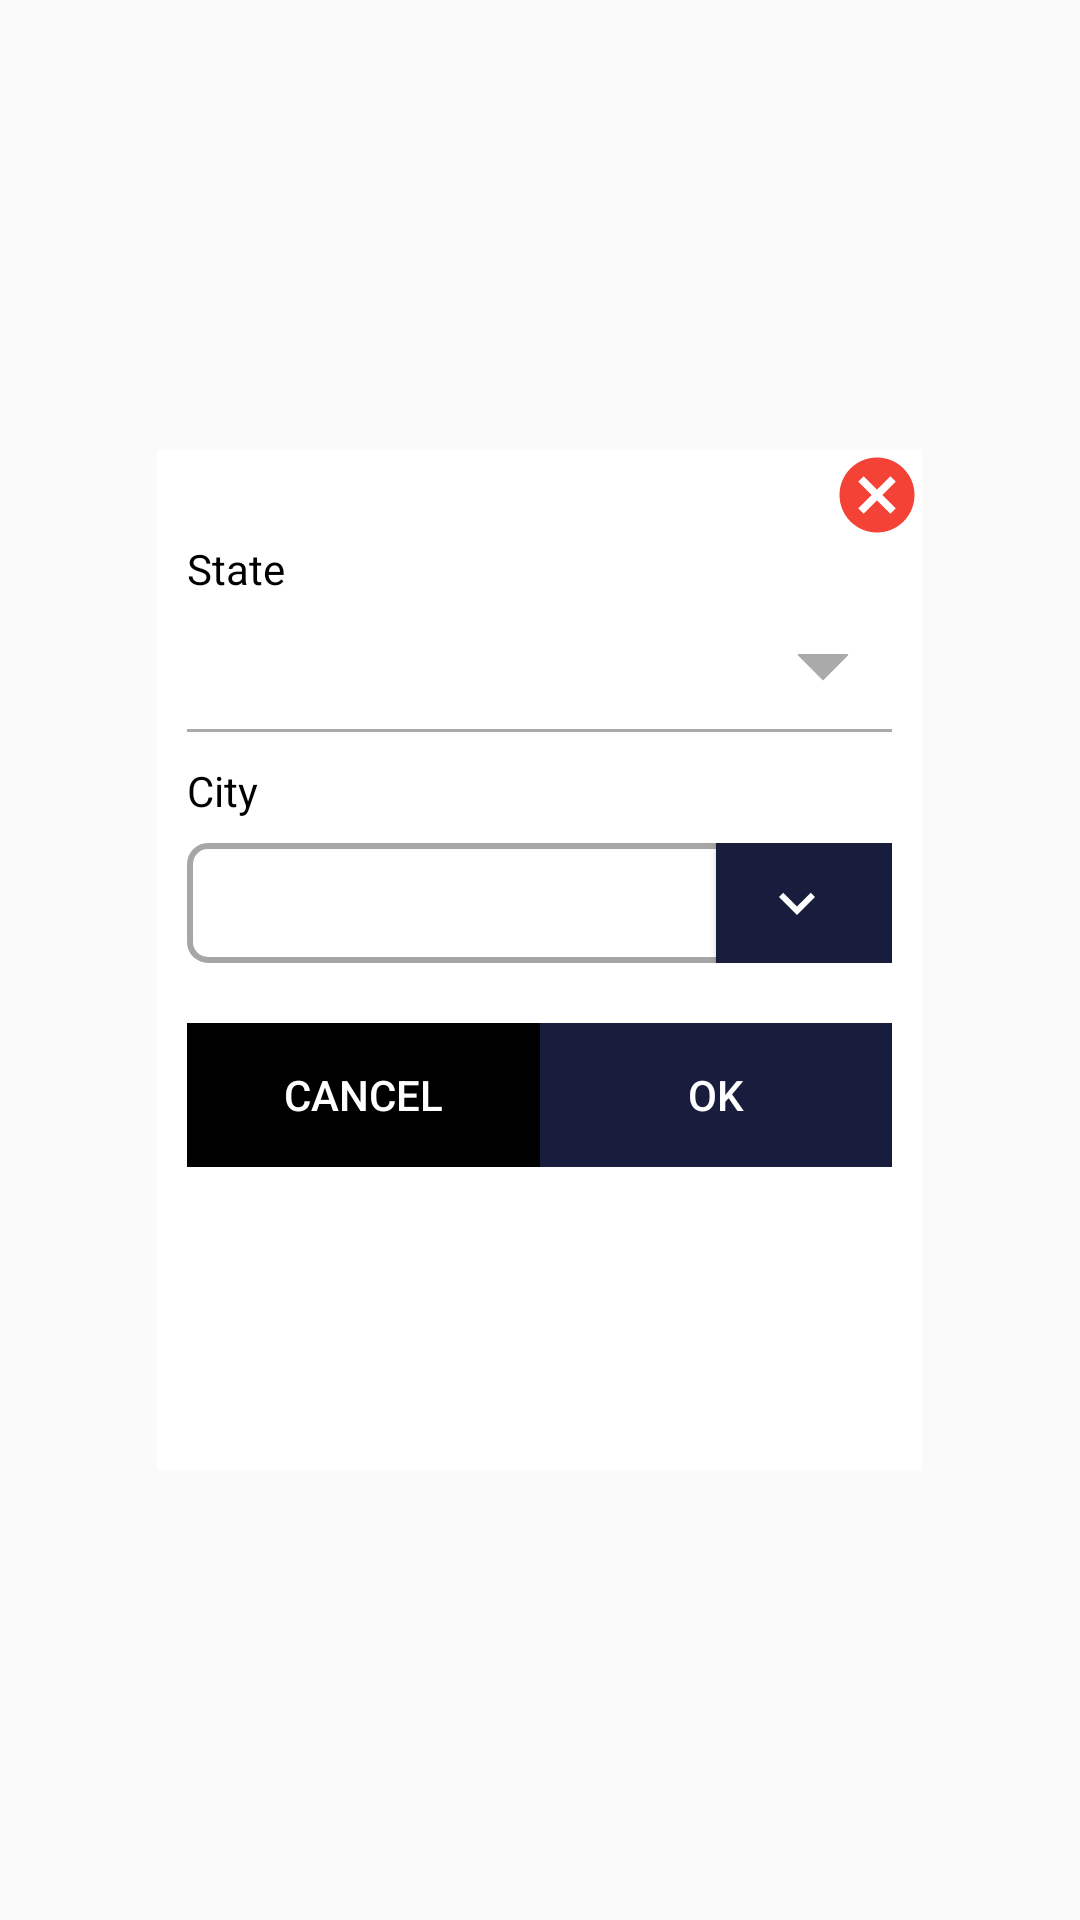

Where to tap for icons on this 1080 × 1920 app screen, as point (x, y):
cancel: point (877, 495)
